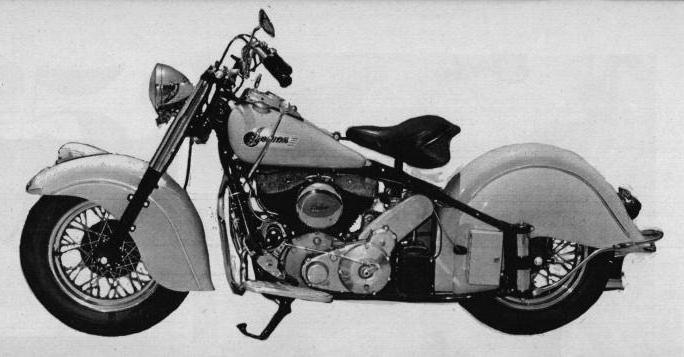motorcycle: (2, 1, 674, 356)
